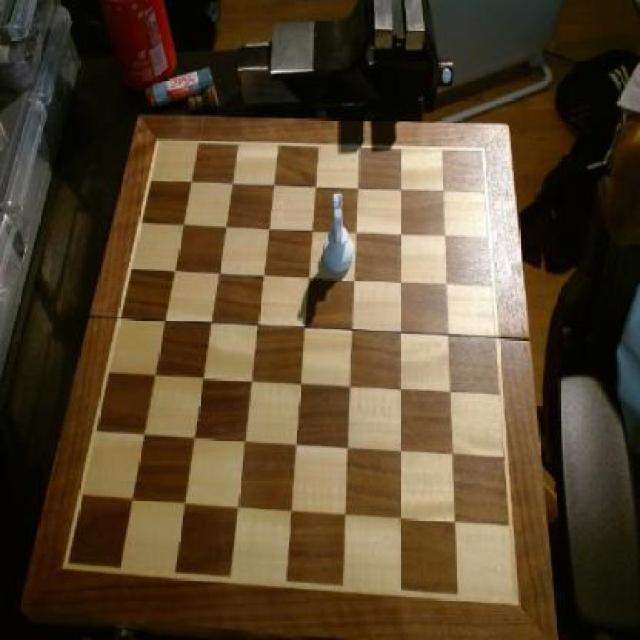white-king: (323, 190, 356, 274)
